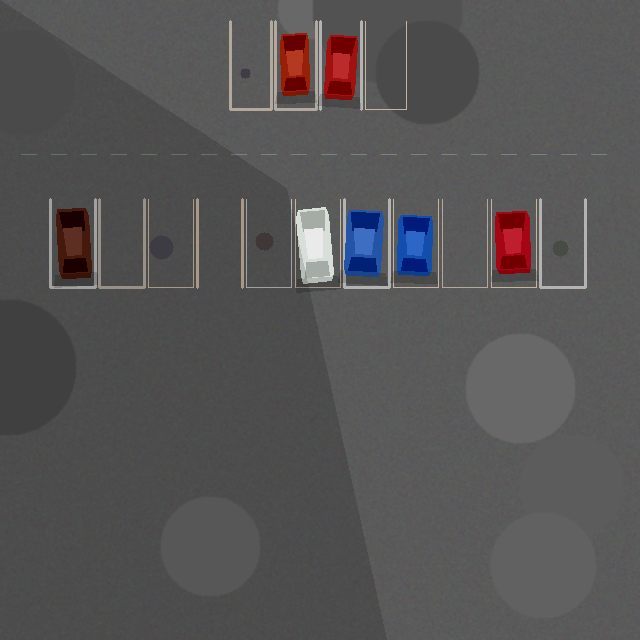space-empty: (99, 199, 144, 287), (148, 199, 193, 287), (197, 199, 242, 287), (246, 199, 291, 287), (442, 199, 487, 287), (540, 199, 585, 287), (230, 21, 271, 109), (365, 21, 406, 109)
space-occupied: (50, 199, 95, 287), (295, 199, 340, 287), (344, 199, 389, 287), (393, 199, 438, 287), (491, 199, 536, 287), (275, 21, 316, 109), (320, 21, 361, 109)
